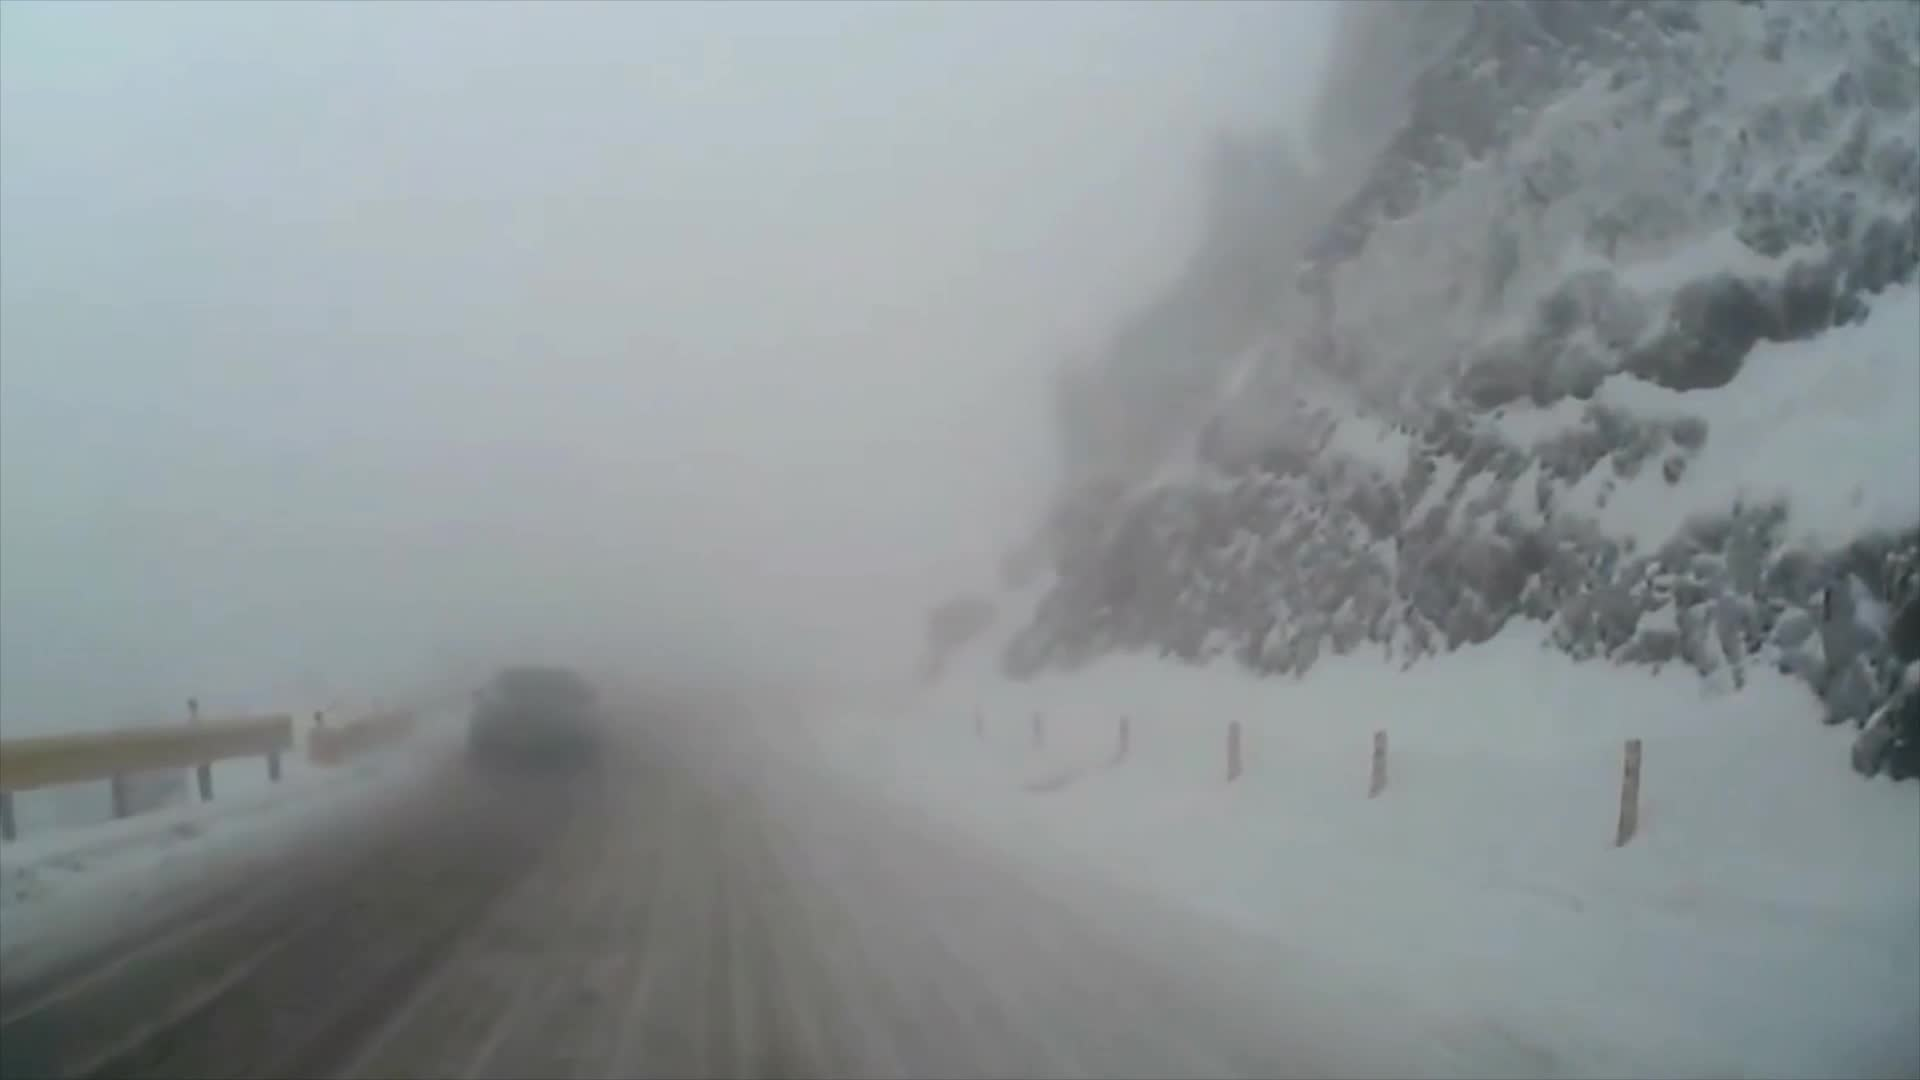vehicle: (465, 665, 603, 762)
